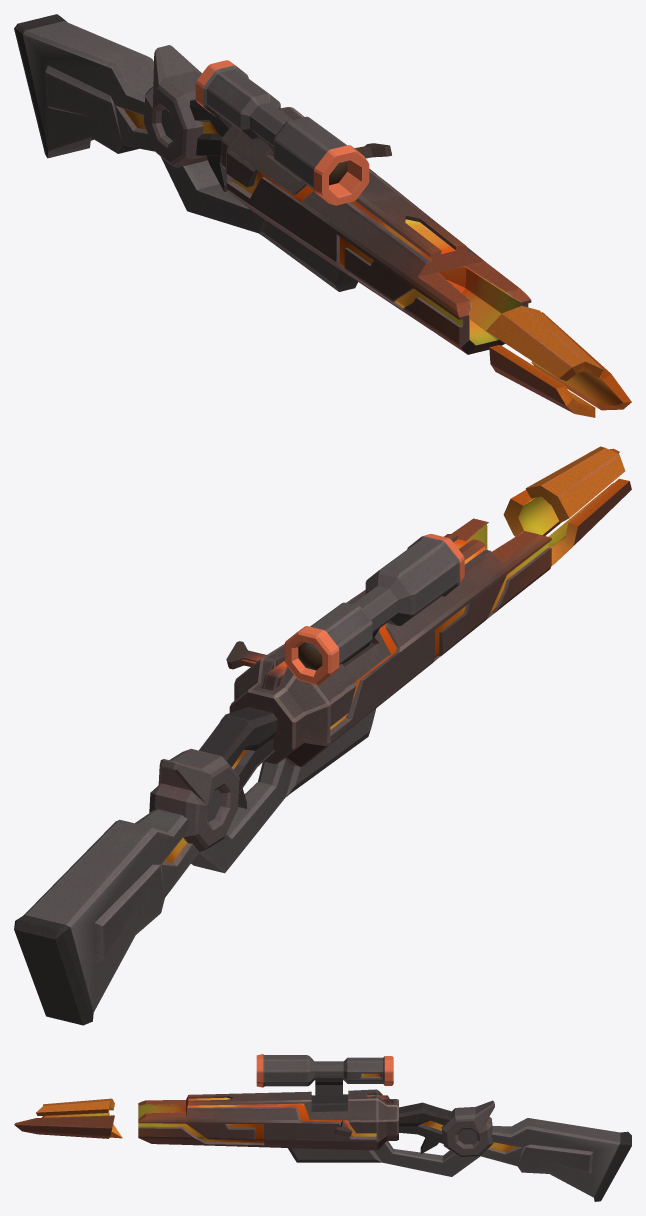
File: Item_Sniper.fbx
3 renders of one model, top to bottom at view 1: azimuth 30°, elevation 25°; view 2: azimuth 150°, elevation 25°; view 3: azimuth 270°, elevation 25°, orthographic. The views are drawn at different scales.
Parts seen in each view (by area): view 1: weapon_1501; view 2: weapon_1501; view 3: weapon_1501.
Part boxes in pixels (left/top/right/bottom): weapon_1501: left=14, top=14, right=631, bottom=417; weapon_1501: left=14, top=446, right=631, bottom=1025; weapon_1501: left=14, top=1054, right=631, bottom=1201.
Bounding box in the file's own units: 25.46 × 40.47 × 174.
1 material, 1 textured.
